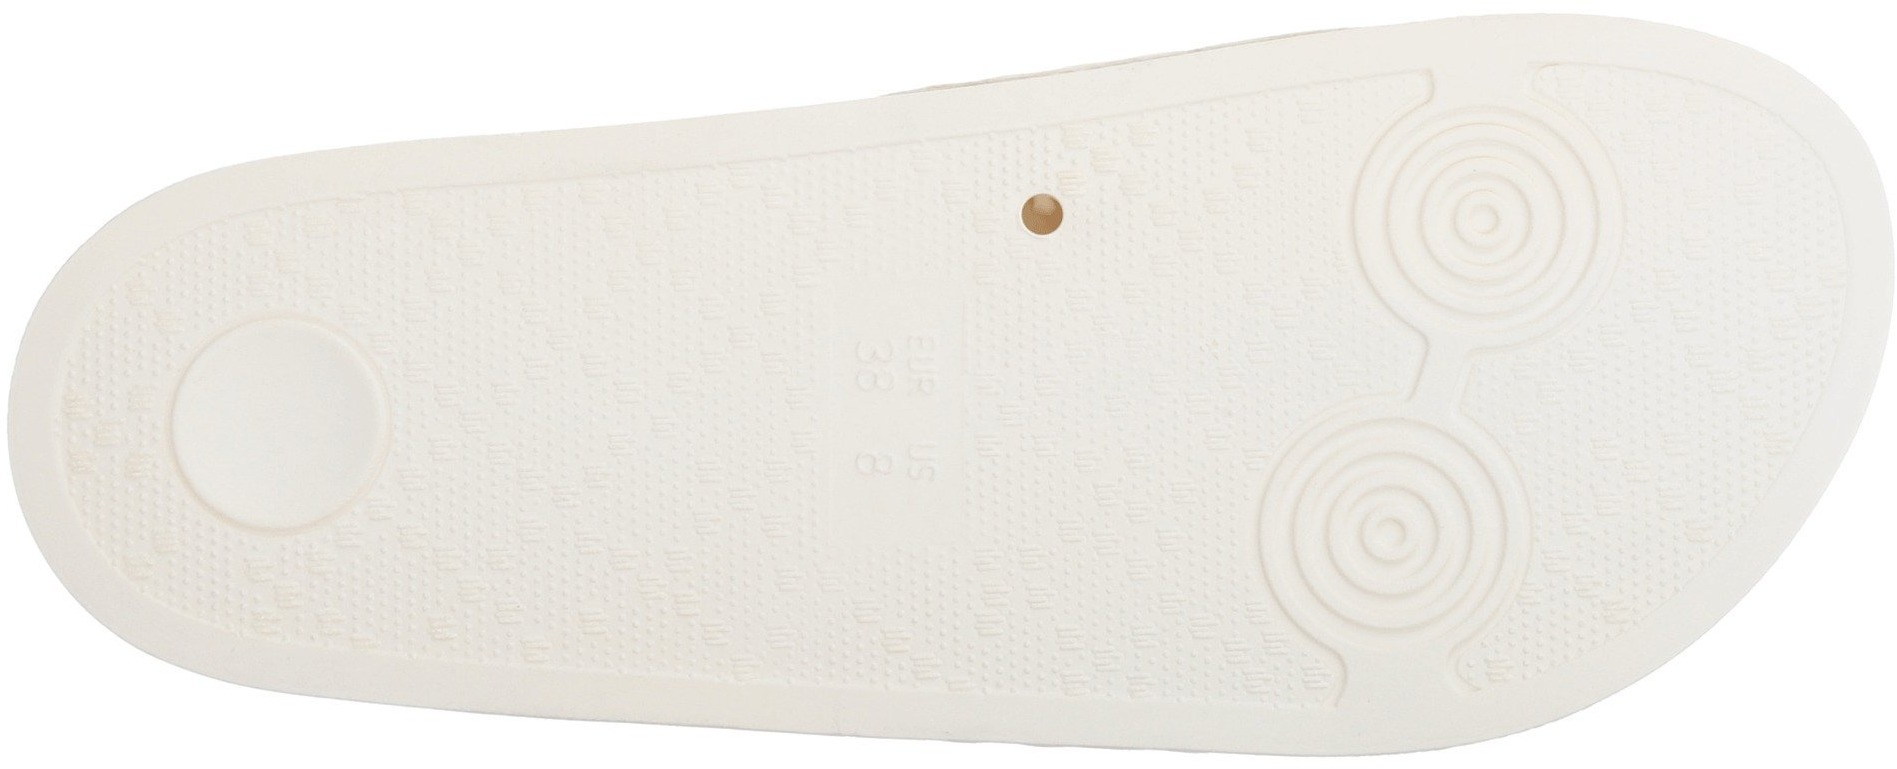circle: (148, 279, 421, 563), (1315, 96, 1602, 354), (1274, 399, 1509, 651), (998, 191, 1108, 281), (849, 310, 936, 397), (857, 415, 948, 496)
line: (422, 230, 847, 612), (998, 191, 1108, 281)
other: (959, 328, 1255, 605)
text: (849, 310, 936, 397), (857, 415, 948, 496)
